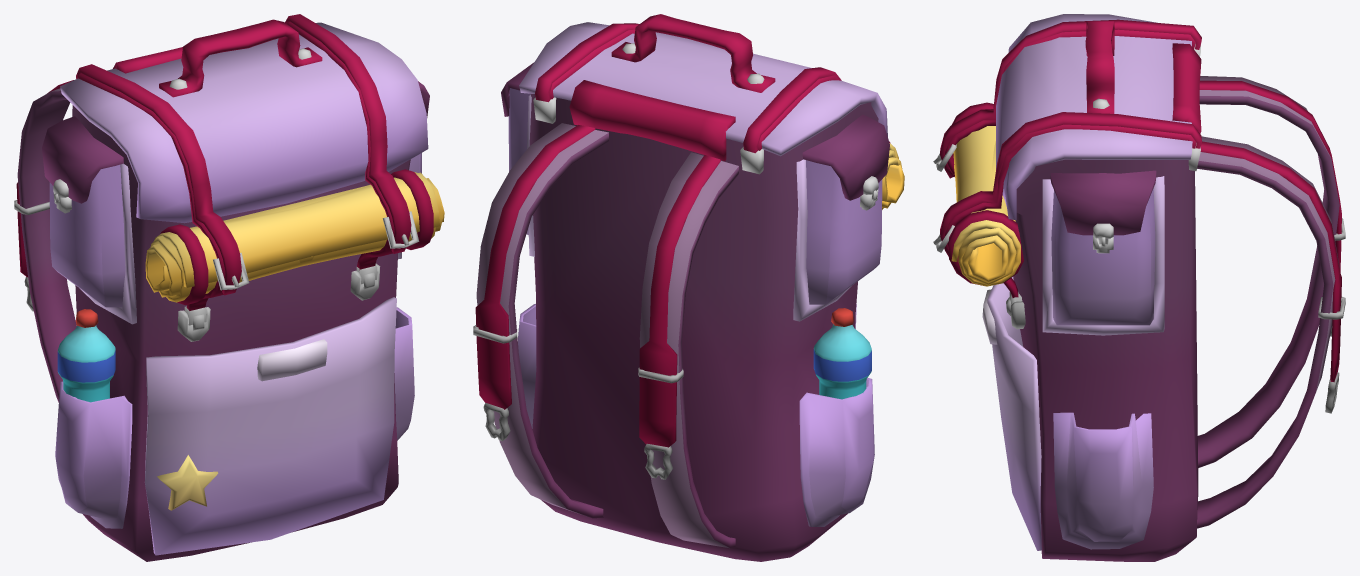
File: SM_BackPack_33.fbx
3 renders of one model, left to right at view 1: azimuth 30°, elevation 25°; view 2: azimuth 150°, elevation 25°; view 3: azimuth 270°, elevation 25°, orthographic. The views are drawn at different scales.
Visible parts, largest first — view 1: SM_BackPack_33; view 2: SM_BackPack_33; view 3: SM_BackPack_33.
Part boxes in pixels (x1,y1,x2,y2): SM_BackPack_33: (14,14,444,561); SM_BackPack_33: (473,14,904,561); SM_BackPack_33: (933,14,1345,561).
Bounding box in the file's own units: 121 × 156 × 123.
